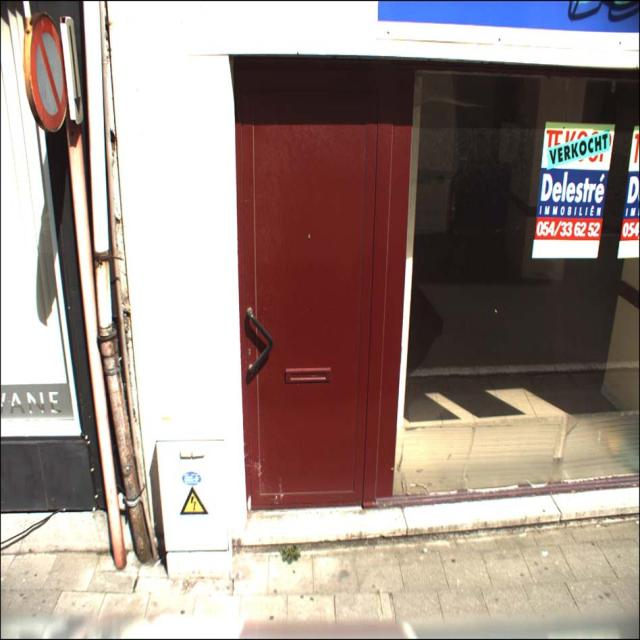parkyasak: (26, 15, 68, 130)
